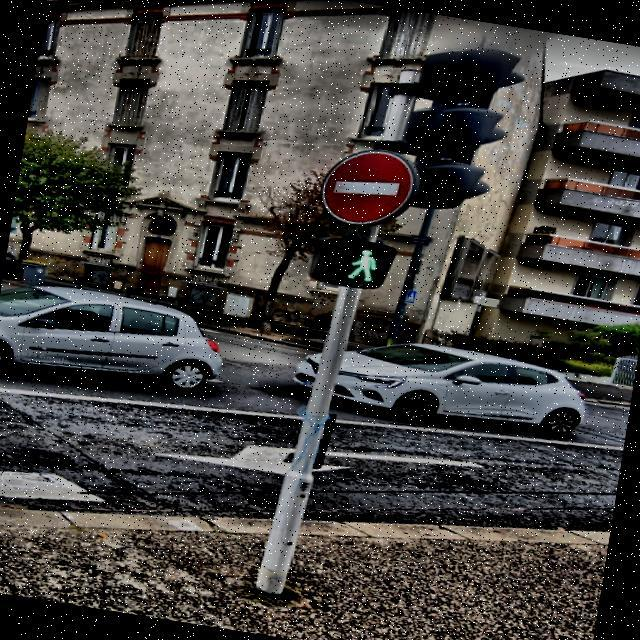green_light: (340, 242, 385, 286)
